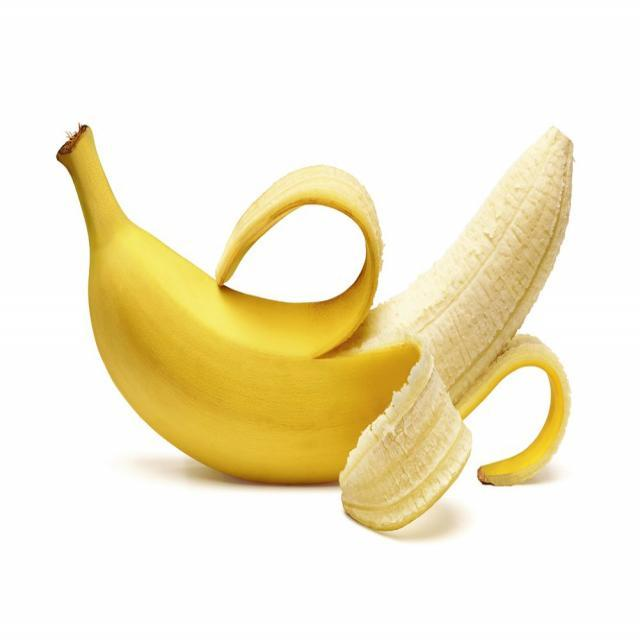banana: (85, 157, 590, 503)
